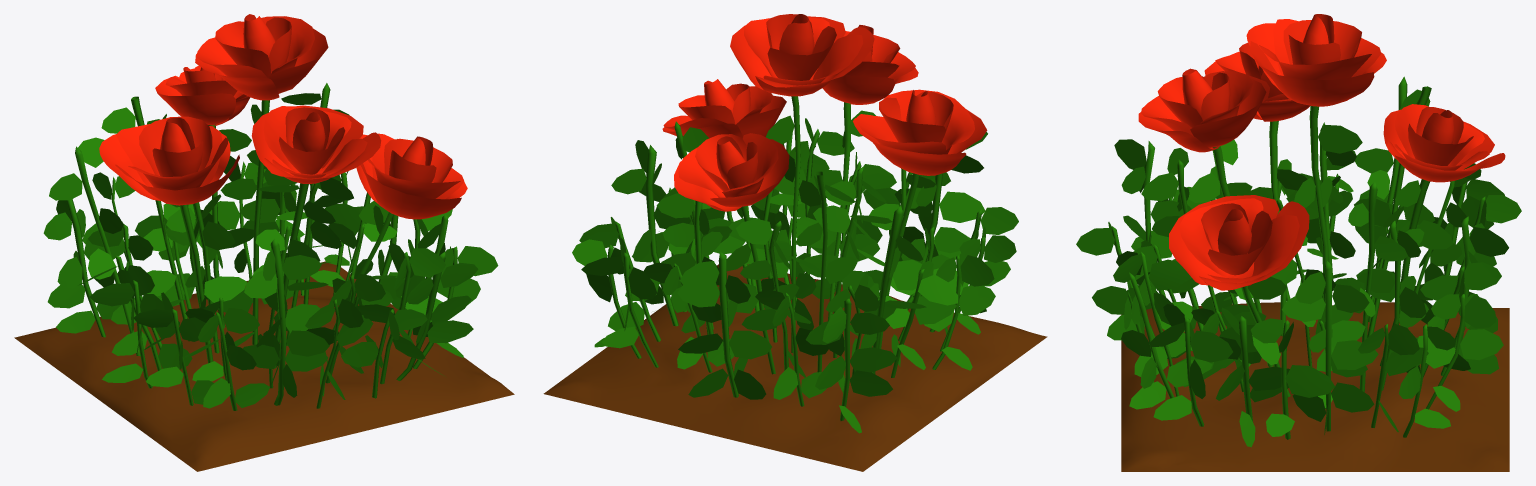
Rendered from red-rose-p3-bloom.glb.
The picture shows the model from 3 angles, left to right: view 1: azimuth 30°, elevation 25°; view 2: azimuth 150°, elevation 25°; view 3: azimuth 270°, elevation 25°; orthographic projection. The views are drawn at different scales.
Visible parts, largest first — view 1: 3_nft_bloom; view 2: 3_nft_bloom; view 3: 3_nft_bloom.
Boxes of the visible parts, x1,y1,x2,y2 form: 3_nft_bloom: (14,14,514,471); 3_nft_bloom: (543,14,1047,471); 3_nft_bloom: (1076,14,1521,471).
Bounding box in the file's own units: 0.7993 × 0.7387 × 0.8042.
